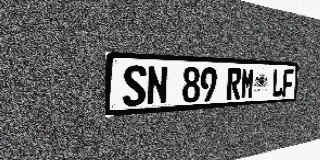8: (182, 66, 201, 103)
9: (200, 67, 217, 102)
F: (282, 69, 294, 96)
L: (272, 69, 284, 97)
M: (240, 68, 255, 99)
N: (146, 65, 168, 105)
R: (226, 68, 241, 100)
S: (123, 65, 146, 107)
